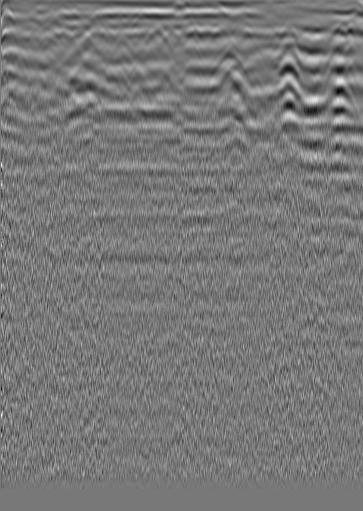가스: (213, 72, 255, 120)
상수: (324, 22, 347, 47)
오수: (26, 24, 46, 44)
우수: (146, 22, 166, 42)
